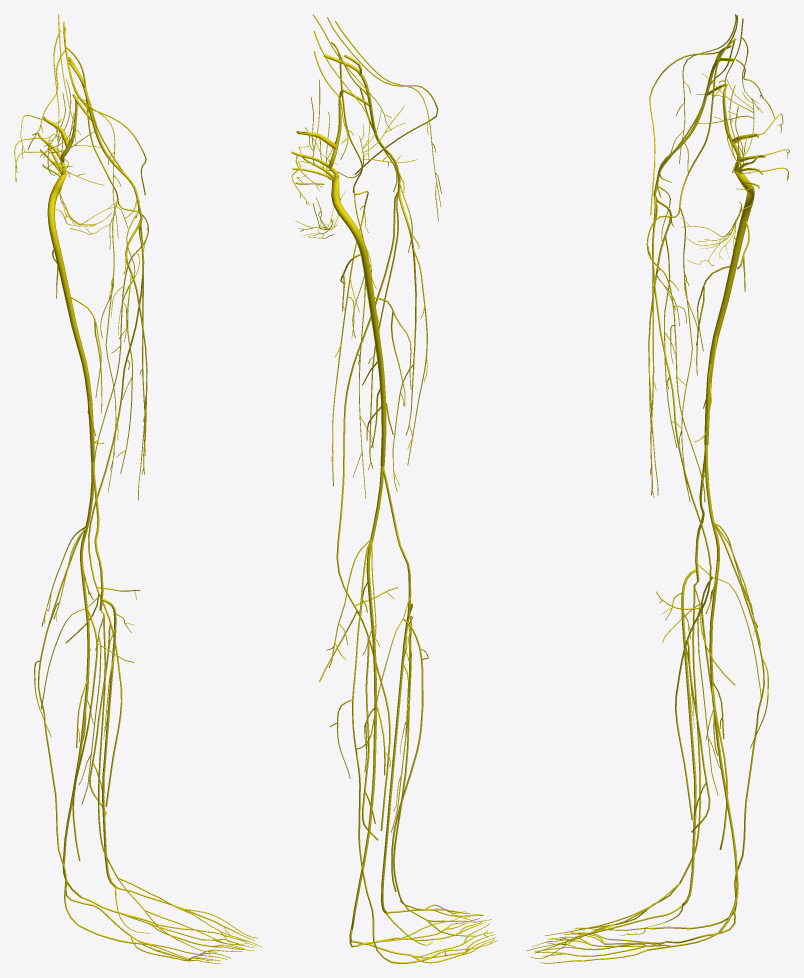
The model's file is Lower limb Nerves.fbx.
The picture shows the model from 3 angles, left to right: view 1: azimuth 90°, elevation 25°; view 2: azimuth 150°, elevation 25°; view 3: azimuth 270°, elevation 25°; orthographic projection. The views are drawn at different scales.
Parts seen in each view (by area): view 1: Sciatic_R, Saphenous_R, Tibial_R, Femoral_R, Obturator_R, Deep_fibular_R, Superficial_fibular_R, Lateral_sural_cutaneous_R, Dorsal_metatarsal_and_digital_branches_R, Common_plantar_digital_R, Sural_R, Superior_clunial_R (+1 smaller); view 2: Sciatic_R, Saphenous_R, Tibial_R, Femoral_R, Obturator_R, Deep_fibular_R, Lateral_sural_cutaneous_R, Superficial_fibular_R, Superior_clunial_R, Sural_R, Superior_gluteal_R, Dorsal_metatarsal_and_digital_branches_R (+6 smaller); view 3: Saphenous_R, Sciatic_R, Tibial_R, Obturator_R, Femoral_R, Deep_fibular_R, Superficial_fibular_R, Lateral_sural_cutaneous_R, Common_plantar_digital_R, Dorsal_metatarsal_and_digital_branches_R, Sural_R, Superior_gluteal_R.
Boxes of the visible parts, x1,y1,x2,y2 form: Sciatic_R: (47,137,104,462); Saphenous_R: (65,220,145,814); Tibial_R: (41,462,94,897); Femoral_R: (67,52,147,500); Obturator_R: (66,47,148,492); Deep_fibular_R: (101,598,134,887); Superficial_fibular_R: (78,610,118,878); Lateral_sural_cutaneous_R: (41,594,134,860); Dorsal_metatarsal_and_digital_branches_R: (143,908,261,961); Common_plantar_digital_R: (130,920,214,960); Sural_R: (43,714,143,944); Superior_clunial_R: (28,14,80,157); Sciatic_R: (312,139,411,466); Saphenous_R: (319,191,398,840); Tibial_R: (326,466,390,941); Femoral_R: (324,46,427,491); Obturator_R: (331,42,379,498); Deep_fibular_R: (381,603,412,913); Lateral_sural_cutaneous_R: (356,598,428,891); Superficial_fibular_R: (391,616,411,900); Superior_clunial_R: (313,14,391,159); Sural_R: (356,754,440,963); Superior_gluteal_R: (309,79,416,178); Dorsal_metatarsal_and_digital_branches_R: (425,904,494,955); Saphenous_R: (650,196,735,832); Sciatic_R: (694,140,754,445); Tibial_R: (704,445,760,933); Obturator_R: (646,38,736,502); Femoral_R: (648,40,735,495); Deep_fibular_R: (662,569,696,906); Superficial_fibular_R: (679,582,720,882); Lateral_sural_cutaneous_R: (662,564,761,849); Common_plantar_digital_R: (577,939,665,961); Dorsal_metatarsal_and_digital_branches_R: (526,921,652,958); Sural_R: (652,714,758,929); Superior_gluteal_R: (694,73,754,172).
Bounding box in the file's own units: 15.91 × 123 × 30.41.
